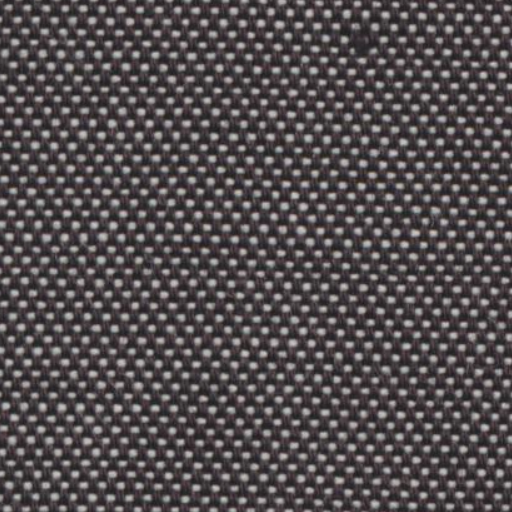MianQiu: (328, 18, 400, 67)
